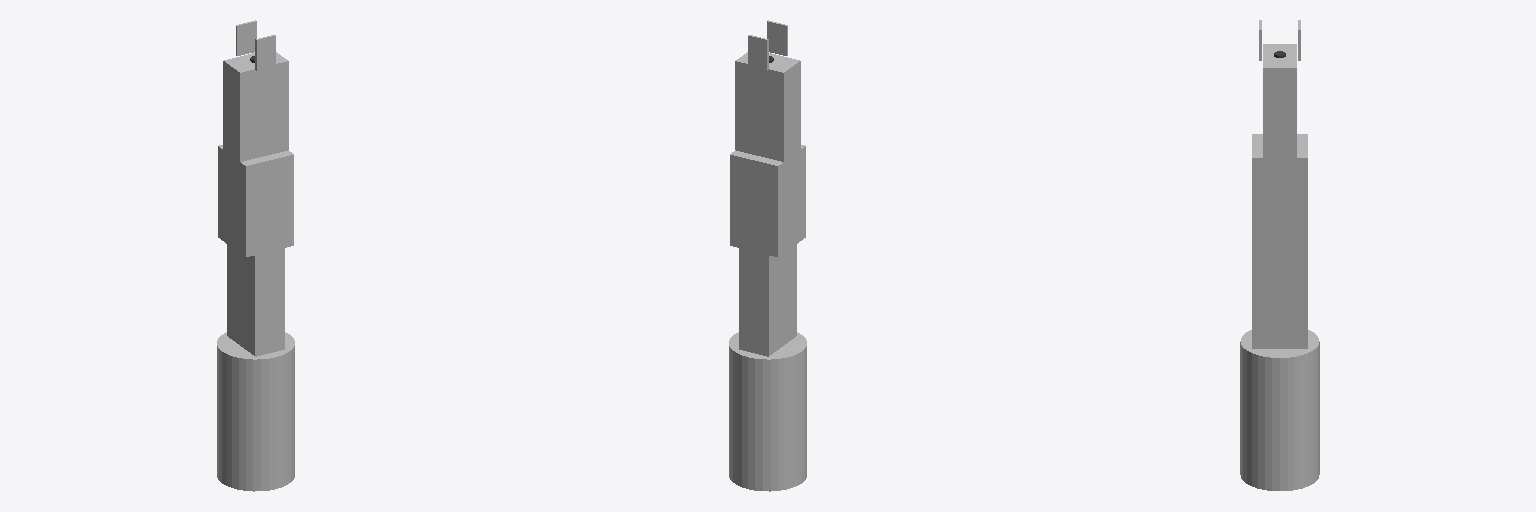
robot.urdf — ve026a:
<?xml version="1.0"?>
<robot name="ve026a">
	<link name="base_link">
    <visual>
      <geometry>
	      <cylinder length="0.130" radius="0.035"/>
      </geometry>
      <origin xyz="0 0 0.065"/>
      <material name="link_white">
	      <color rgba="0.8 0.8 0.8 1"/>
		  </material>
		</visual>
  </link>
	<link name="link0">
    <visual>
	  	<geometry>
				<box size="0.01 0.01 0.01"/>
			</geometry>
			<origin xyz="0 0 0"/>
      <material name="link_dark">
  	    <color rgba="0.3 0.3 0.3 1"/>
		  </material>
		</visual>
  </link>
  <joint name="J1" type="revolute">
    <axis xyz="0 0 1"/>
    <limit effort="1000.0" lower="-1.39626" upper="1.83259" velocity="1.0"/>
    <origin rpy="0 0 0" xyz="0.0 0.0 0.130"/>
    <parent link="base_link"/>
    <child link="link0"/>
  </joint>


	<link name="link1">
    <visual>
	  	<geometry>
				<box size="0.03 0.05 0.1"/>
			</geometry>
			<origin xyz="0 0 0.05"/>
      <material name="link_white"/>
		</visual>
  </link>
  <joint name="J2" type="revolute">
    <axis xyz="0 1 0"/>
    <limit effort="1000.0" lower="-0.61086" upper="1.57075" velocity="1.0"/>
    <origin rpy="0 0 0" xyz="0.0 0.0 0.0"/>
    <parent link="link0"/>
    <child link="link1"/>
  </joint>

	<link name="link2">
   <visual>
	  	<geometry>
				<box size="0.01 0.01 0.01"/>
			</geometry>
			<origin xyz="0 0 0"/>
      <material name="link_dark"/>  	   
		</visual>
  </link>

	<joint name="J3" type="revolute">
    <axis xyz="0 1 0"/>
    <limit effort="1000.0" lower="-1.30899" upper="2.35619" velocity="1.0"/>
    <origin rpy="0 0 0" xyz="0.0 0.0 0.100"/>
    <parent link="link1"/>
    <child link="link2"/>
	</joint>

	<link name="link3">
  <visual>
    <geometry>
      <box size="0.05 0.05 0.09"/>
    </geometry>
    <origin xyz="0 0 0.045"/>
    <material name="link_white"/>
  </visual>
  </link>

	<joint name="J4" type="revolute">
		<axis xyz="0 0 1"/>
		<limit effort="1000.0" lower="-2.44346" upper="2.44346" velocity="1.0"/>
		<origin rpy="0 0 0" xyz="0.0 0.0 0.0"/>
		<parent link="link2"/>
    <child link="link3"/>
	</joint>

	<link name="link4">
    <visual>
    <geometry>
      <box size="0.05 0.03 0.088"/>
    </geometry>
    <origin xyz="0 0 0.044"/>
    <material name="link_white"/>
  </visual>

  </link>

	<joint name="J5" type="revolute">
		<axis xyz="0 1 0"/>
		<limit effort="1000.0" lower="-1.57075" upper="1.83259" velocity="1.0"/>
		<origin rpy="0 0 0" xyz="0.0 0.0 0.090"/>
		<parent link="link3"/>
		<child link="link4"/>
	</joint>

	<link name="link5">
    <visual>
      <geometry>
	      <cylinder length="0.005" radius="0.005"/>
      </geometry>
      <origin xyz="0 0 0"/>
      <material name="link_dark"/>
		</visual>
  </link>

	<joint name="J6" type="revolute">
		<axis xyz="0 0 1"/>
		<limit effort="1000.0" lower="-2.44346" upper="2.44346" velocity="1.0"/>
		<origin rpy="0 0 0" xyz="0.0 0.0 0.088"/>
		<parent link="link4"/>
		<child link="link5"/>
	</joint>

  <link name="gripper_left">
		<visual>
			<geometry>
				<box size="0.020 0.002 0.030"/>
			</geometry>
			<origin xyz="0 0 0.015"/>
			<material name="link_white"/>
		</visual>
	</link>

	<joint name="J7_left" type="prismatic">
		<axis xyz="0 1 0"/>
		<limit effort="1000.0" lower="0.013" upper="0.0215" velocity="1.0"/>
		<origin rpy="0 0 0" xyz="0.0 0.0 0.0"/>
		<parent link="link5"/>
		<child link="gripper_left"/>
	</joint>

	<link name="gripper_right">
		<visual>
			<geometry>
				<box size="0.020 0.002 0.030"/>
			</geometry>
			<origin xyz="0 0 0.015"/>
			<material name="link_white"/>
		</visual>		
	</link>

	<joint name="J7_right" type="prismatic">
		<axis xyz="0 1 0"/>
		<limit effort="1000.0" lower="-0.013" upper="-0.0215" velocity="1.0"/>
		<origin rpy="0 0 0" xyz="0.0 0.0 0.0"/>
		<parent link="link5"/>
		<child link="gripper_right"/>
	</joint>
  
	

</robot>

--- Render facts (derived) ---
The picture shows the robot from 3 angles, left to right: view 1: azimuth 30°, elevation 25°; view 2: azimuth 150°, elevation 25°; view 3: azimuth 270°, elevation 25°; orthographic projection.
Model ve026a with 9 links and 8 joints (6 revolute, 2 prismatic), rooted at base_link, posed all joints at 0 but 2 set to mid-range because 0 is outside their limits (J7_left = 0.0173, J7_right = -0.0173).
Visible links, largest first — view 1: base_link, link3, link4, link1, gripper_right, gripper_left; view 2: base_link, link3, link4, link1, gripper_left, gripper_right; view 3: base_link, link3, link1, link4.
Link boxes in pixels (left/top/right/bottom): base_link: left=217, top=332, right=294, bottom=491; link3: left=218, top=145, right=293, bottom=256; link4: left=223, top=52, right=288, bottom=161; link1: left=227, top=244, right=284, bottom=356; gripper_right: left=255, top=35, right=275, bottom=70; gripper_left: left=236, top=20, right=256, bottom=55; base_link: left=729, top=332, right=806, bottom=491; link3: left=730, top=145, right=805, bottom=256; link4: left=735, top=52, right=800, bottom=161; link1: left=739, top=244, right=796, bottom=356; gripper_left: left=748, top=35, right=768, bottom=70; gripper_right: left=767, top=20, right=787, bottom=55; base_link: left=1240, top=330, right=1319, bottom=490; link3: left=1252, top=134, right=1307, bottom=250; link1: left=1252, top=251, right=1307, bottom=348; link4: left=1263, top=44, right=1296, bottom=157.
Size in the robot's own frame: 0.07 by 0.07 by 0.438 metres.
Geometry: primitives only (box / cylinder / sphere), no mesh files.